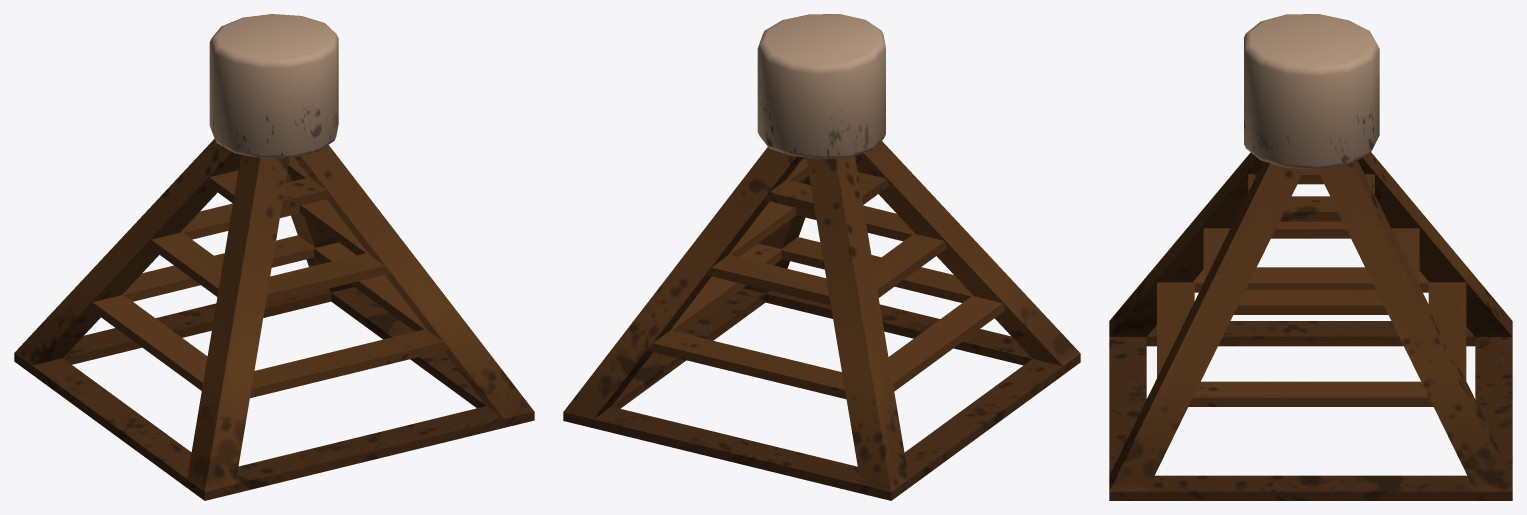
Rendered from ArtificialReef00.fbx.
3 renders of one model, left to right at view 1: azimuth 30°, elevation 25°; view 2: azimuth 150°, elevation 25°; view 3: azimuth 270°, elevation 25°, orthographic. The views are drawn at different scales.
Parts seen in each view (by area): view 1: artificialreef; view 2: artificialreef; view 3: artificialreef.
Boxes of the visible parts, x1,y1,x2,y2 form: artificialreef: (14,14,534,500); artificialreef: (563,14,1080,500); artificialreef: (1109,14,1512,500).
Bounding box in the file's own units: 100 × 103 × 100.
